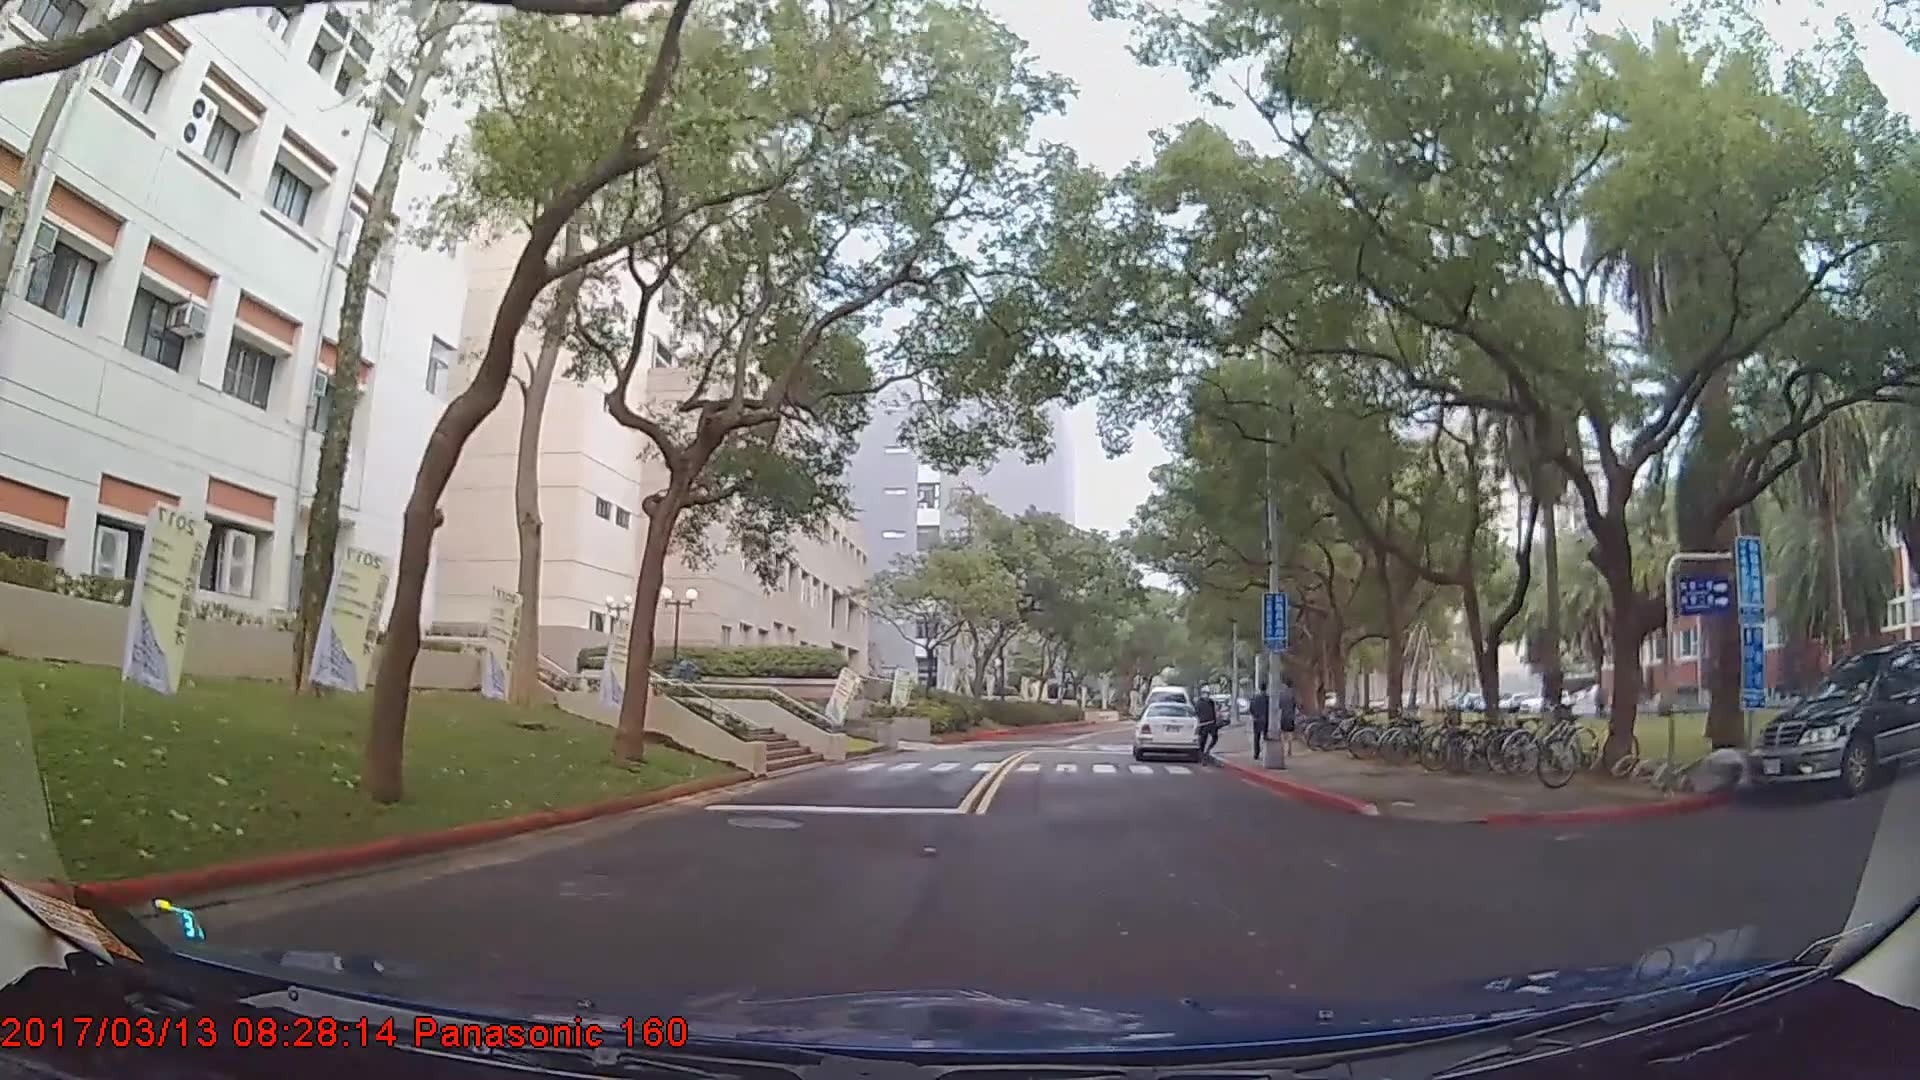pedestrian: (1249, 684, 1278, 759), (1194, 687, 1219, 762)
vehicle: (1752, 642, 1920, 798), (1131, 700, 1205, 764)
